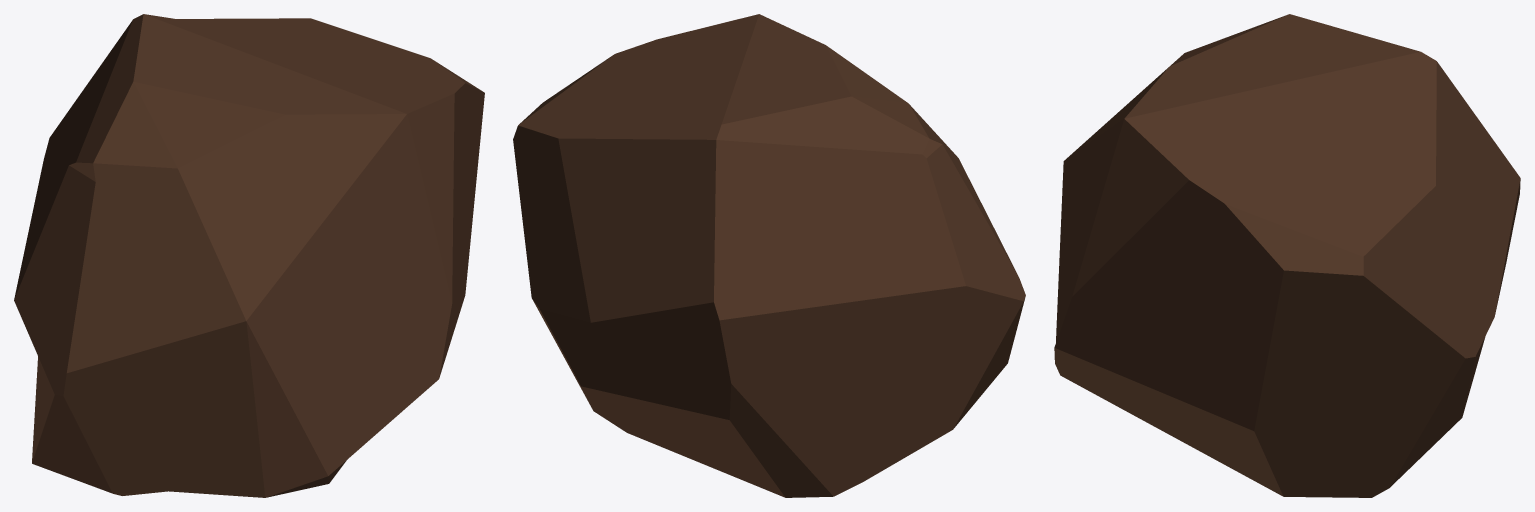
The model's file is rock1.fbx.
3 renders of one model, left to right at view 1: azimuth 30°, elevation 25°; view 2: azimuth 150°, elevation 25°; view 3: azimuth 270°, elevation 25°, orthographic. The views are drawn at different scales.
Visible parts, largest first — view 1: Sphere; view 2: Sphere; view 3: Sphere.
Boxes of the visible parts, x1=… form: Sphere: x1=14, y1=14, x2=484, y2=497; Sphere: x1=513, y1=14, x2=1025, y2=497; Sphere: x1=1054, y1=14, x2=1520, y2=497.
Size of the model in its own units: 172 by 144 by 148.
